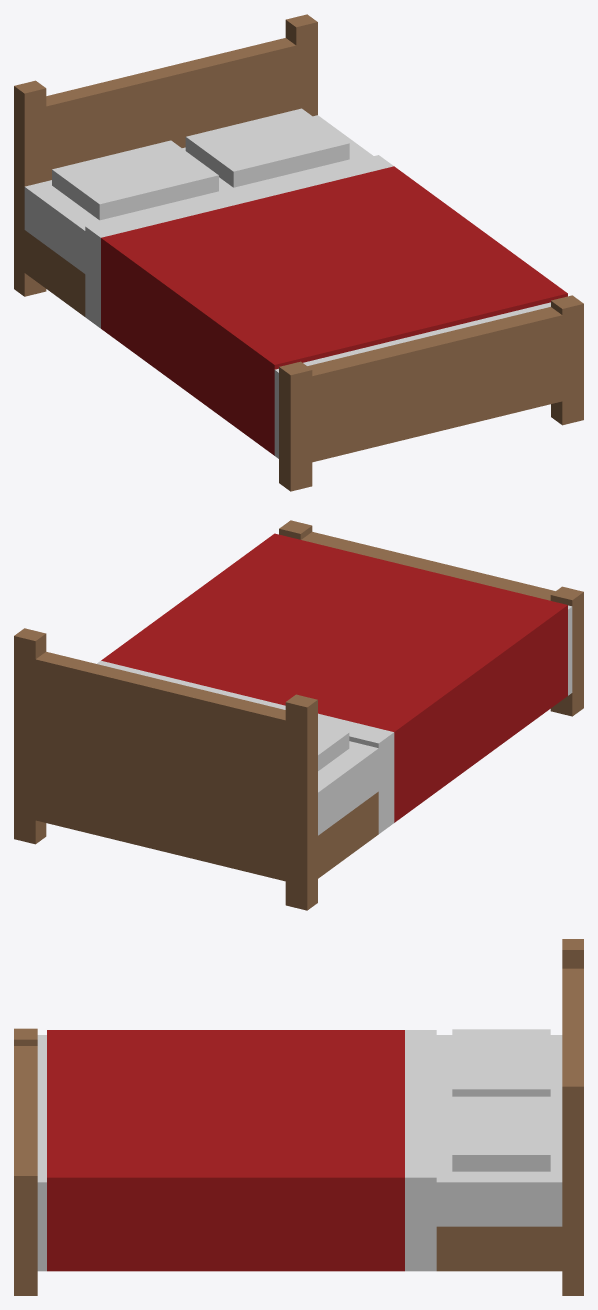
The model's file is bed.fbx.
The picture shows the model from 3 angles, top to bottom: view 1: azimuth 30°, elevation 25°; view 2: azimuth 150°, elevation 25°; view 3: azimuth 270°, elevation 25°; orthographic projection. The views are drawn at different scales.
Parts seen in each view (by area): view 1: Cube; view 2: Cube; view 3: Cube.
Boxes of the visible parts, left/top/right/bottom form: Cube: left=14, top=14, right=583, bottom=491; Cube: left=14, top=520, right=583, bottom=910; Cube: left=14, top=939, right=583, bottom=1295.
Bounding box in the file's own units: 413 × 274 × 675.
